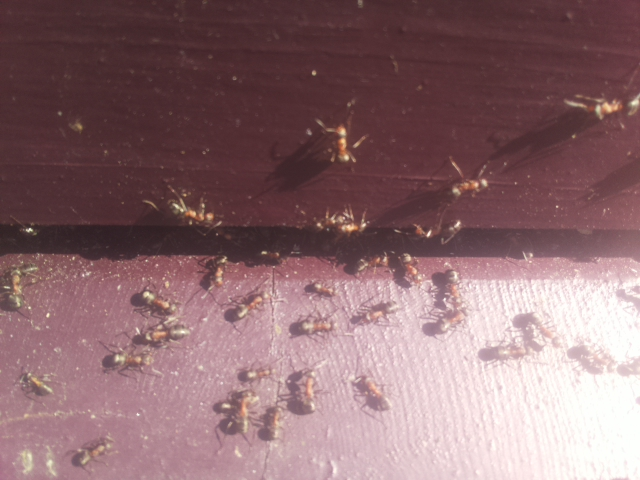ant: (311, 110, 361, 168), (160, 195, 228, 233), (218, 286, 277, 329), (346, 371, 398, 415), (509, 307, 562, 349), (563, 90, 630, 123), (69, 432, 119, 469), (129, 285, 181, 319), (442, 172, 494, 205), (95, 345, 153, 374), (349, 298, 403, 329), (10, 367, 60, 400), (396, 244, 424, 290), (292, 314, 341, 340), (230, 389, 257, 433), (0, 272, 25, 318), (237, 362, 280, 388), (474, 342, 529, 362), (260, 404, 286, 446), (204, 254, 229, 291), (6, 212, 39, 238), (304, 278, 341, 300), (301, 371, 317, 419)
